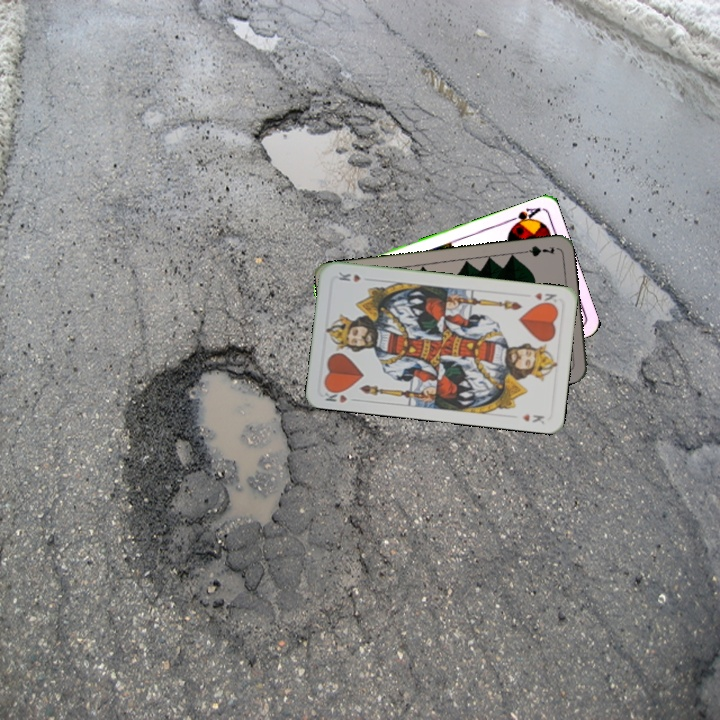G7: (517, 242, 557, 259)
HK: (321, 384, 360, 405), (531, 289, 559, 308)
SA: (504, 204, 543, 231)
